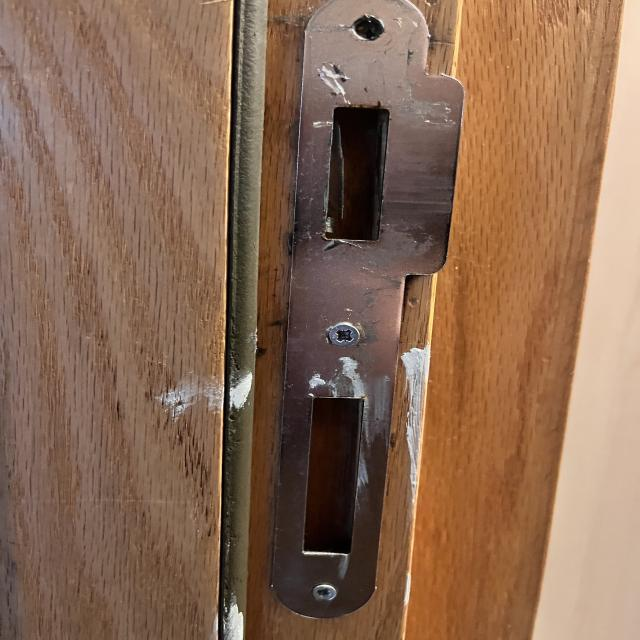pozidriv: (328, 324, 361, 347)
